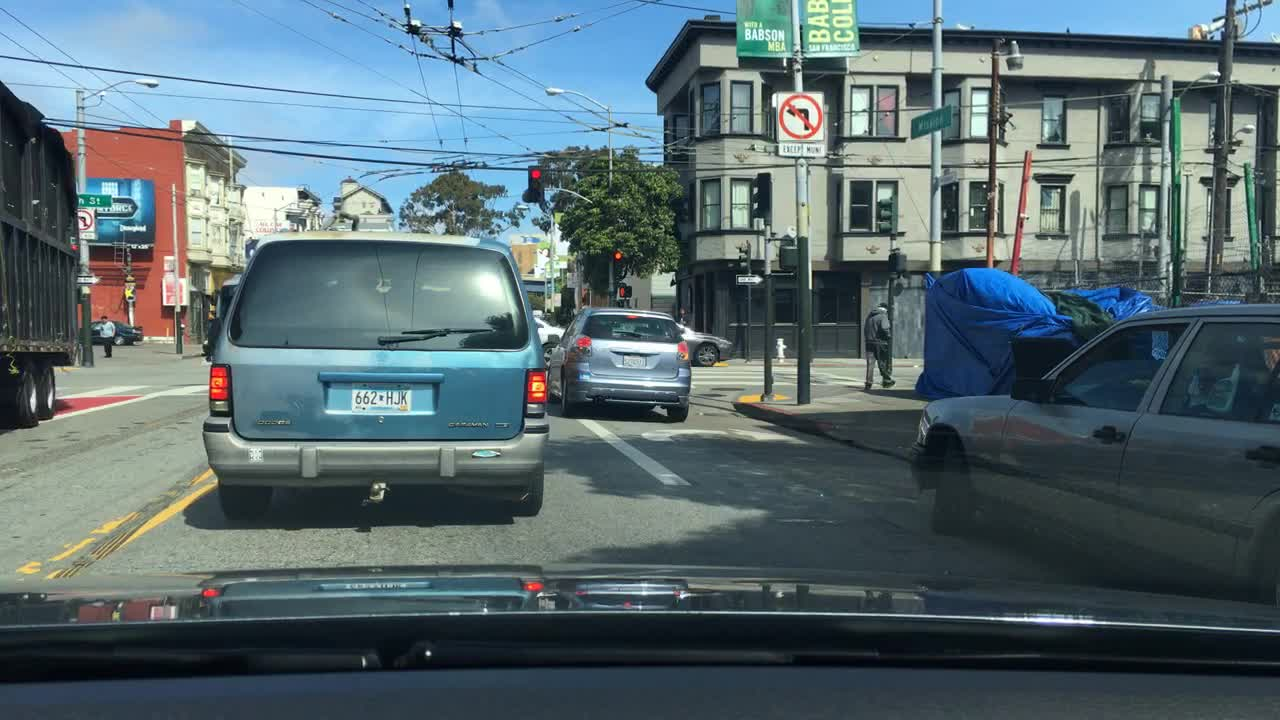bus: (205, 273, 240, 353)
car: (907, 294, 1280, 597), (205, 228, 552, 522), (546, 304, 692, 419), (675, 325, 735, 365), (80, 320, 143, 345), (535, 316, 564, 370)
person: (860, 299, 896, 390), (97, 316, 114, 353)
traffic light: (750, 171, 770, 218), (877, 196, 893, 231), (527, 164, 541, 201), (776, 247, 799, 268), (618, 282, 632, 299), (891, 254, 905, 271), (616, 248, 626, 262)
traffic sign: (776, 93, 825, 156), (908, 105, 951, 136), (76, 191, 114, 208), (79, 211, 99, 236), (733, 273, 764, 285), (74, 274, 102, 285)
truck: (0, 76, 82, 426)
